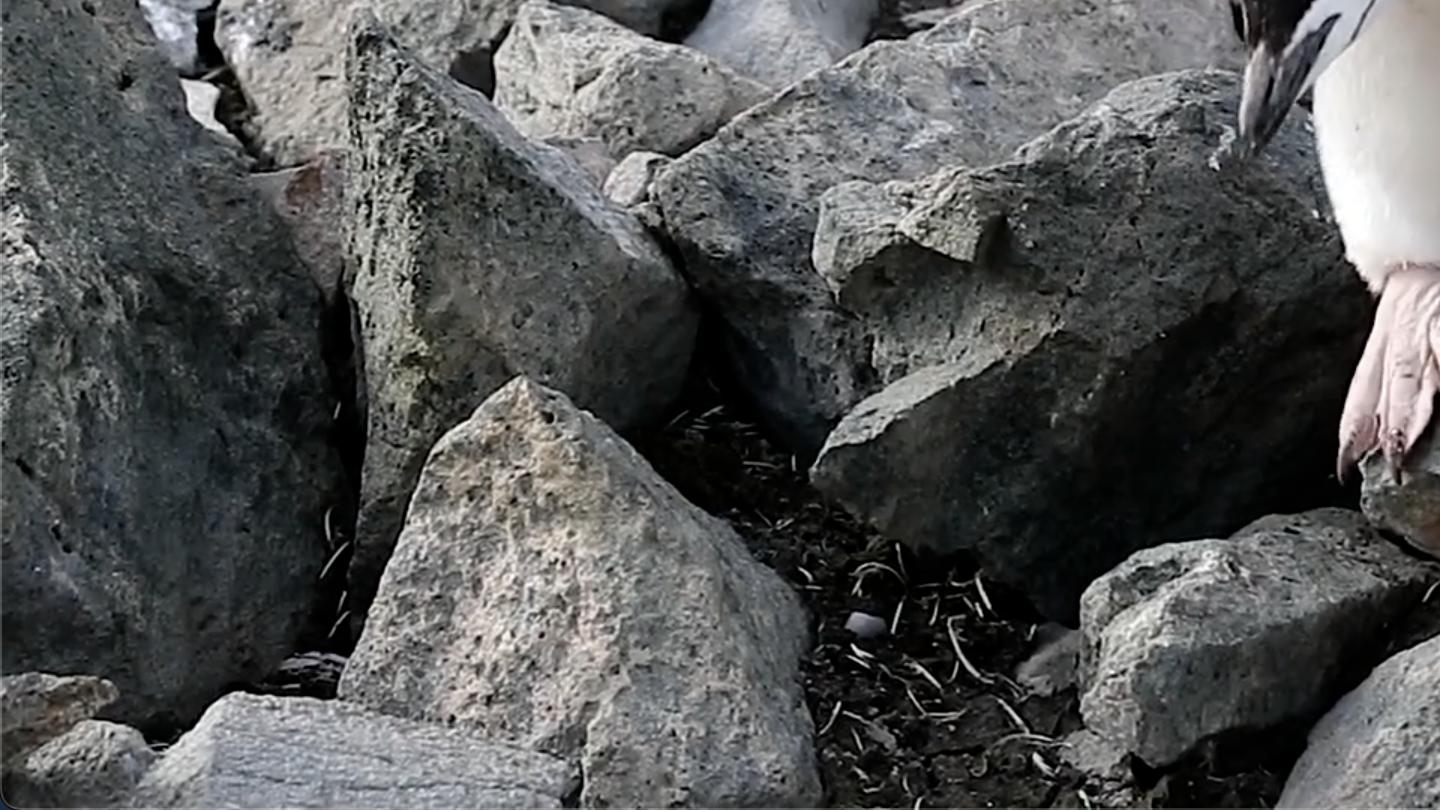Chinstrap Penguin: (1091, 0, 1440, 450)
